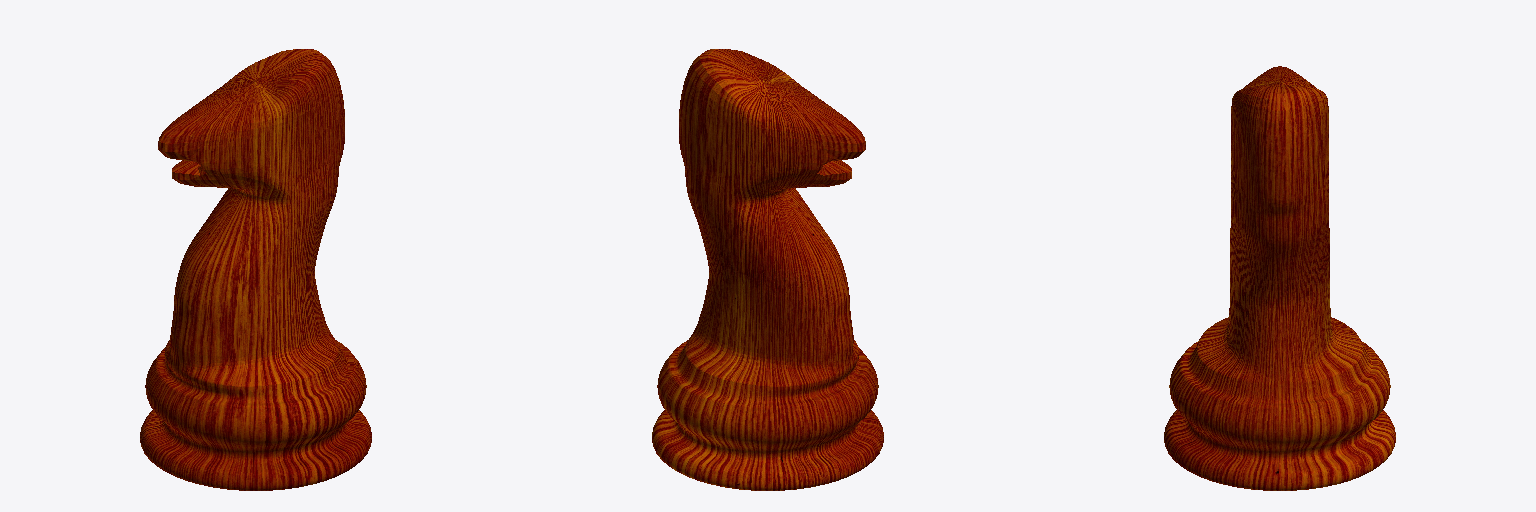
3 renders of one model, left to right at view 1: azimuth 30°, elevation 25°; view 2: azimuth 150°, elevation 25°; view 3: azimuth 270°, elevation 25°, orthographic.
Visible parts, largest first — view 1: mesh01; view 2: mesh01; view 3: mesh01.
Boxes of the visible parts, x1=… form: mesh01: x1=140, y1=49, x2=371, y2=490; mesh01: x1=652, y1=49, x2=883, y2=490; mesh01: x1=1164, y1=66, x2=1395, y2=490.
Bounding box in the file's own units: 11.28 × 20.35 × 11.28.
1 materials, 1 textured.